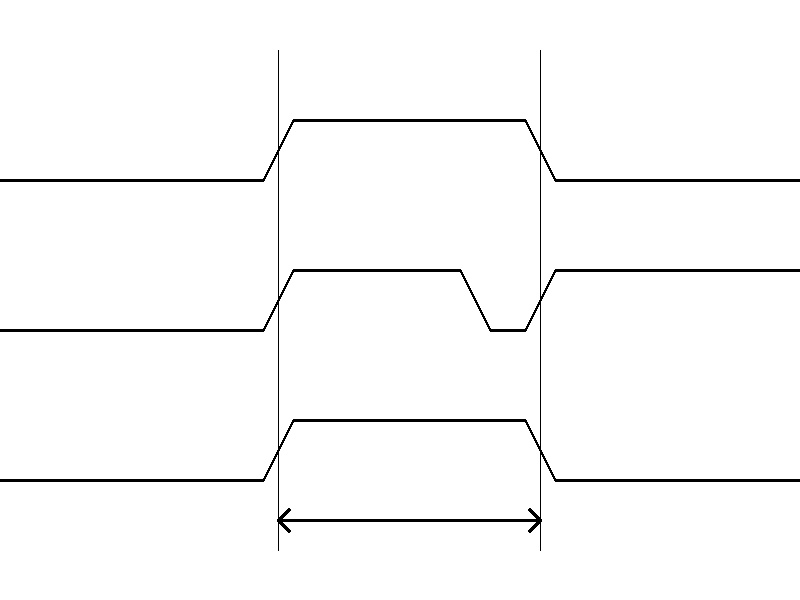double_arrow: (278, 505, 540, 535)
